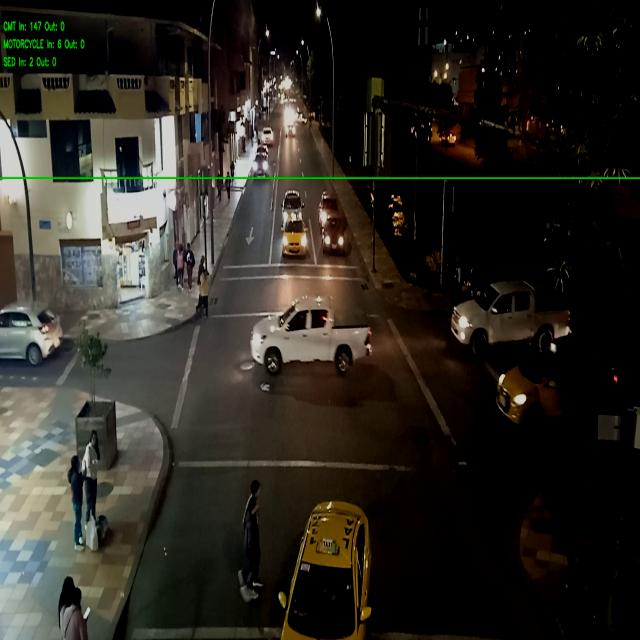CMT: (252, 298, 372, 364), (450, 281, 572, 344)
SUV: (282, 191, 302, 218), (254, 156, 268, 176), (262, 128, 273, 146)
